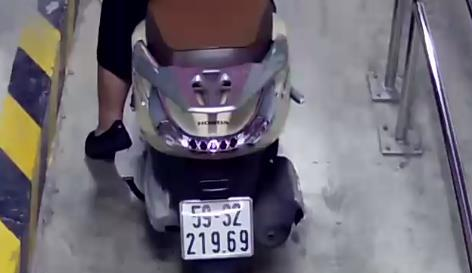lisence: (178, 196, 254, 260)
